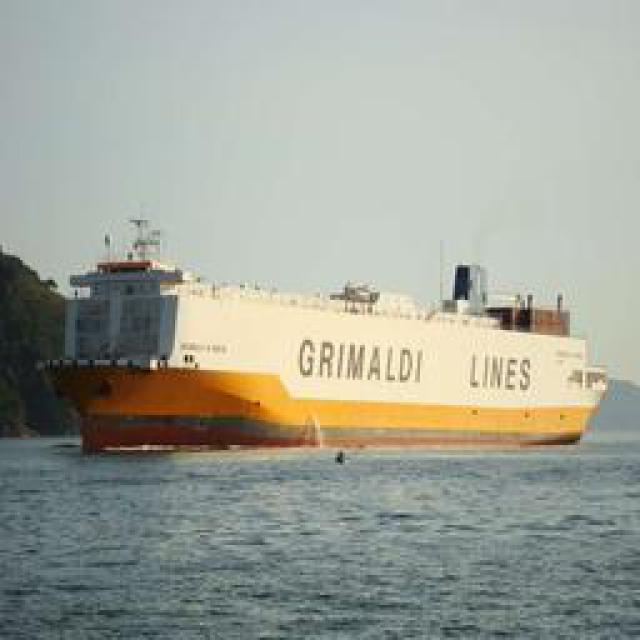Ship: (35, 220, 610, 453)
